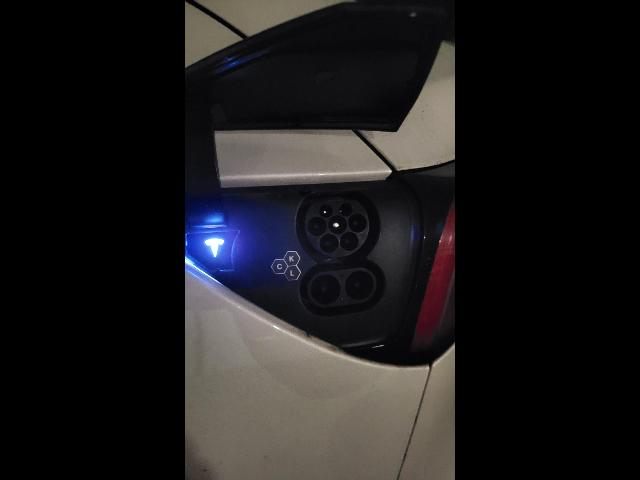inlet: (305, 200, 369, 257)
inlet-above-left: (320, 204, 333, 218)
inlet-above-right: (340, 203, 353, 216)
inlet-below-left: (320, 233, 339, 253)
inlet-below-right: (340, 232, 359, 251)
inlet-circle: (328, 215, 347, 235)
inlet-circle-left: (308, 217, 327, 236)
inlet-circle-right: (348, 213, 367, 233)
inlet-minus: (345, 271, 374, 301)
inlet-plus: (311, 275, 341, 304)
